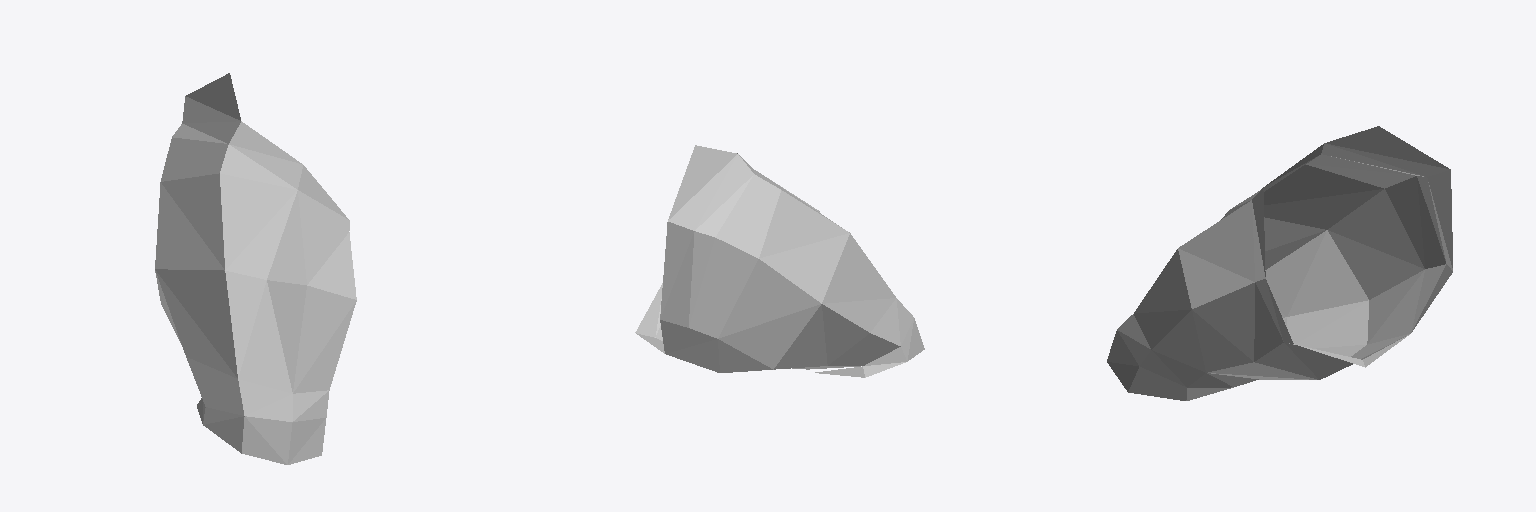
Rendered from MusloDerecho.obj.
3 renders of one model, left to right at view 1: azimuth 30°, elevation 25°; view 2: azimuth 150°, elevation 25°; view 3: azimuth 270°, elevation 25°, orthographic.
Parts seen in each view (by area): view 1: aca.007_aca.016; view 2: aca.007_aca.016; view 3: aca.007_aca.016.
Part boxes in pixels (x1,y1,x2,y2): aca.007_aca.016: (155, 73, 356, 464); aca.007_aca.016: (635, 145, 924, 377); aca.007_aca.016: (1107, 126, 1452, 400).
Bounding box in the file's own units: 0.4688 × 0.6578 × 0.731.